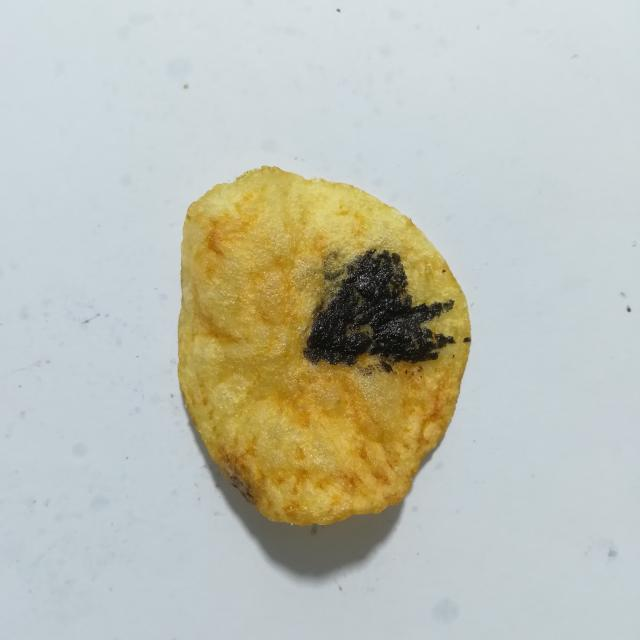chip: (178, 166, 471, 525)
damaged: (303, 249, 454, 365), (380, 360, 394, 374), (463, 337, 471, 342), (442, 269, 446, 273), (411, 371, 415, 375), (419, 366, 423, 370), (417, 369, 421, 372), (405, 369, 407, 374)
semi-damaged: (320, 251, 357, 309), (358, 365, 376, 376)
